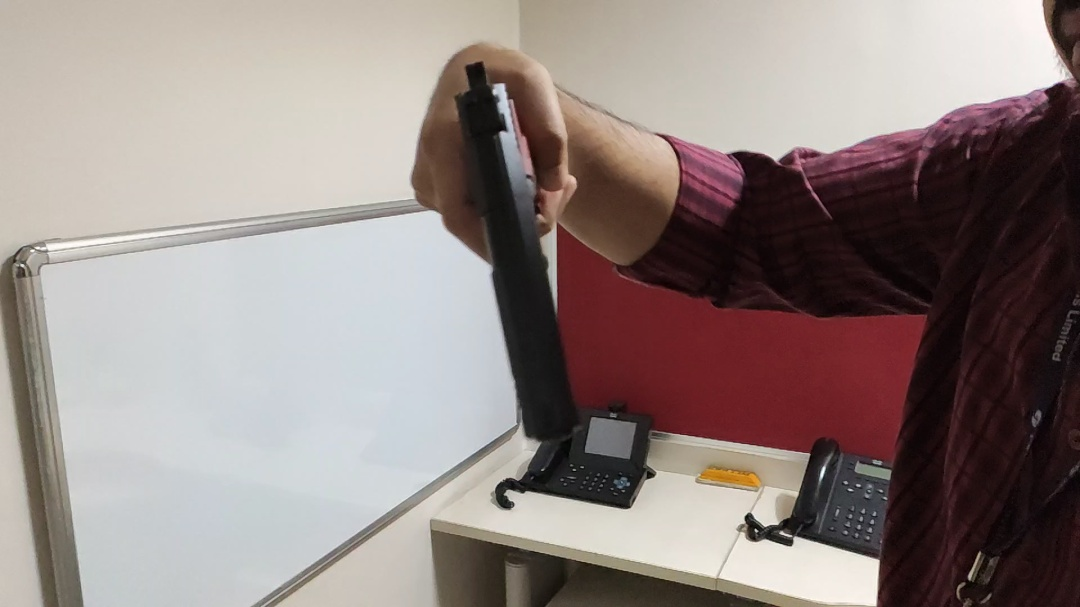gun: (451, 55, 588, 442)
